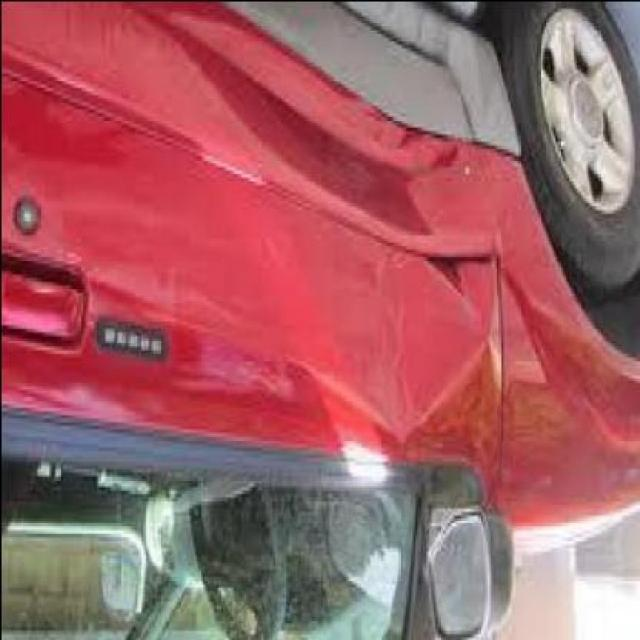damage: (166, 0, 498, 441)
